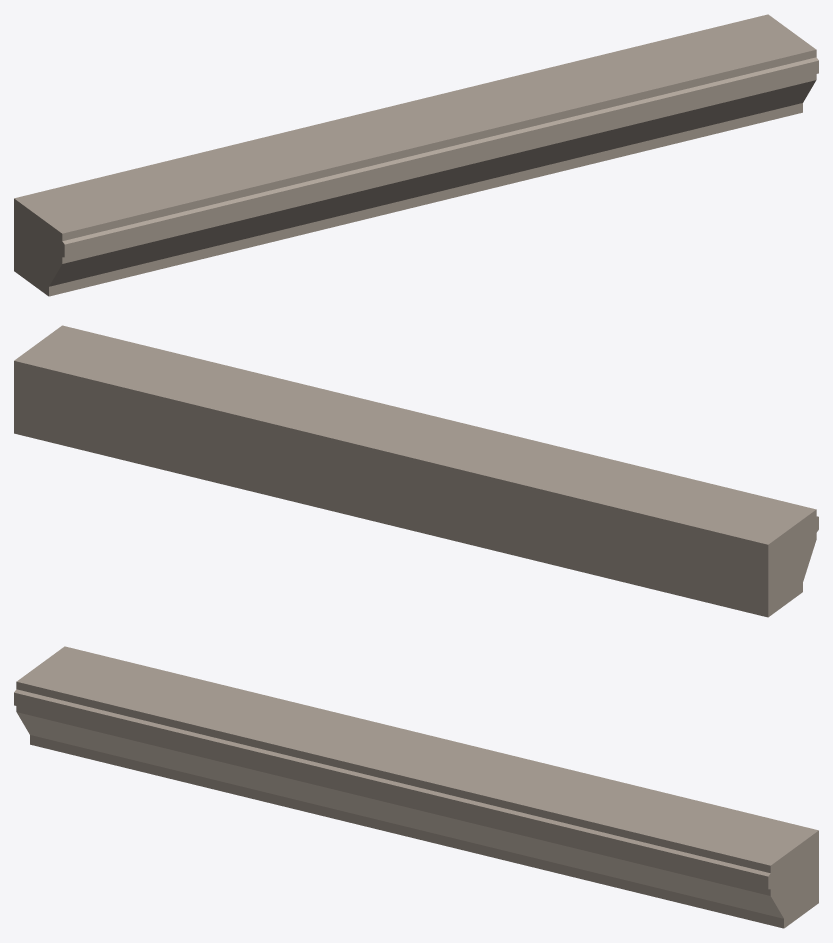
File: SM_Bld_Roof_Edge_Half_01.obj
3 views of the same model, one above another, from view 1: azimuth 30°, elevation 25°; view 2: azimuth 150°, elevation 25°; view 3: azimuth 330°, elevation 25° (orthographic).
Parts seen in each view (by area): view 1: SM_Bld_Roof_Edge_Half_01_0; view 2: SM_Bld_Roof_Edge_Half_01_0; view 3: SM_Bld_Roof_Edge_Half_01_0.
Part boxes in pixels (box(x1,y1,x2,y2)): SM_Bld_Roof_Edge_Half_01_0: box(14, 14, 818, 296); SM_Bld_Roof_Edge_Half_01_0: box(14, 325, 818, 617); SM_Bld_Roof_Edge_Half_01_0: box(14, 646, 818, 928).
Size of the model in its own units: 2.5 by 0.2304 by 0.2915.
1 material, 1 textured.
